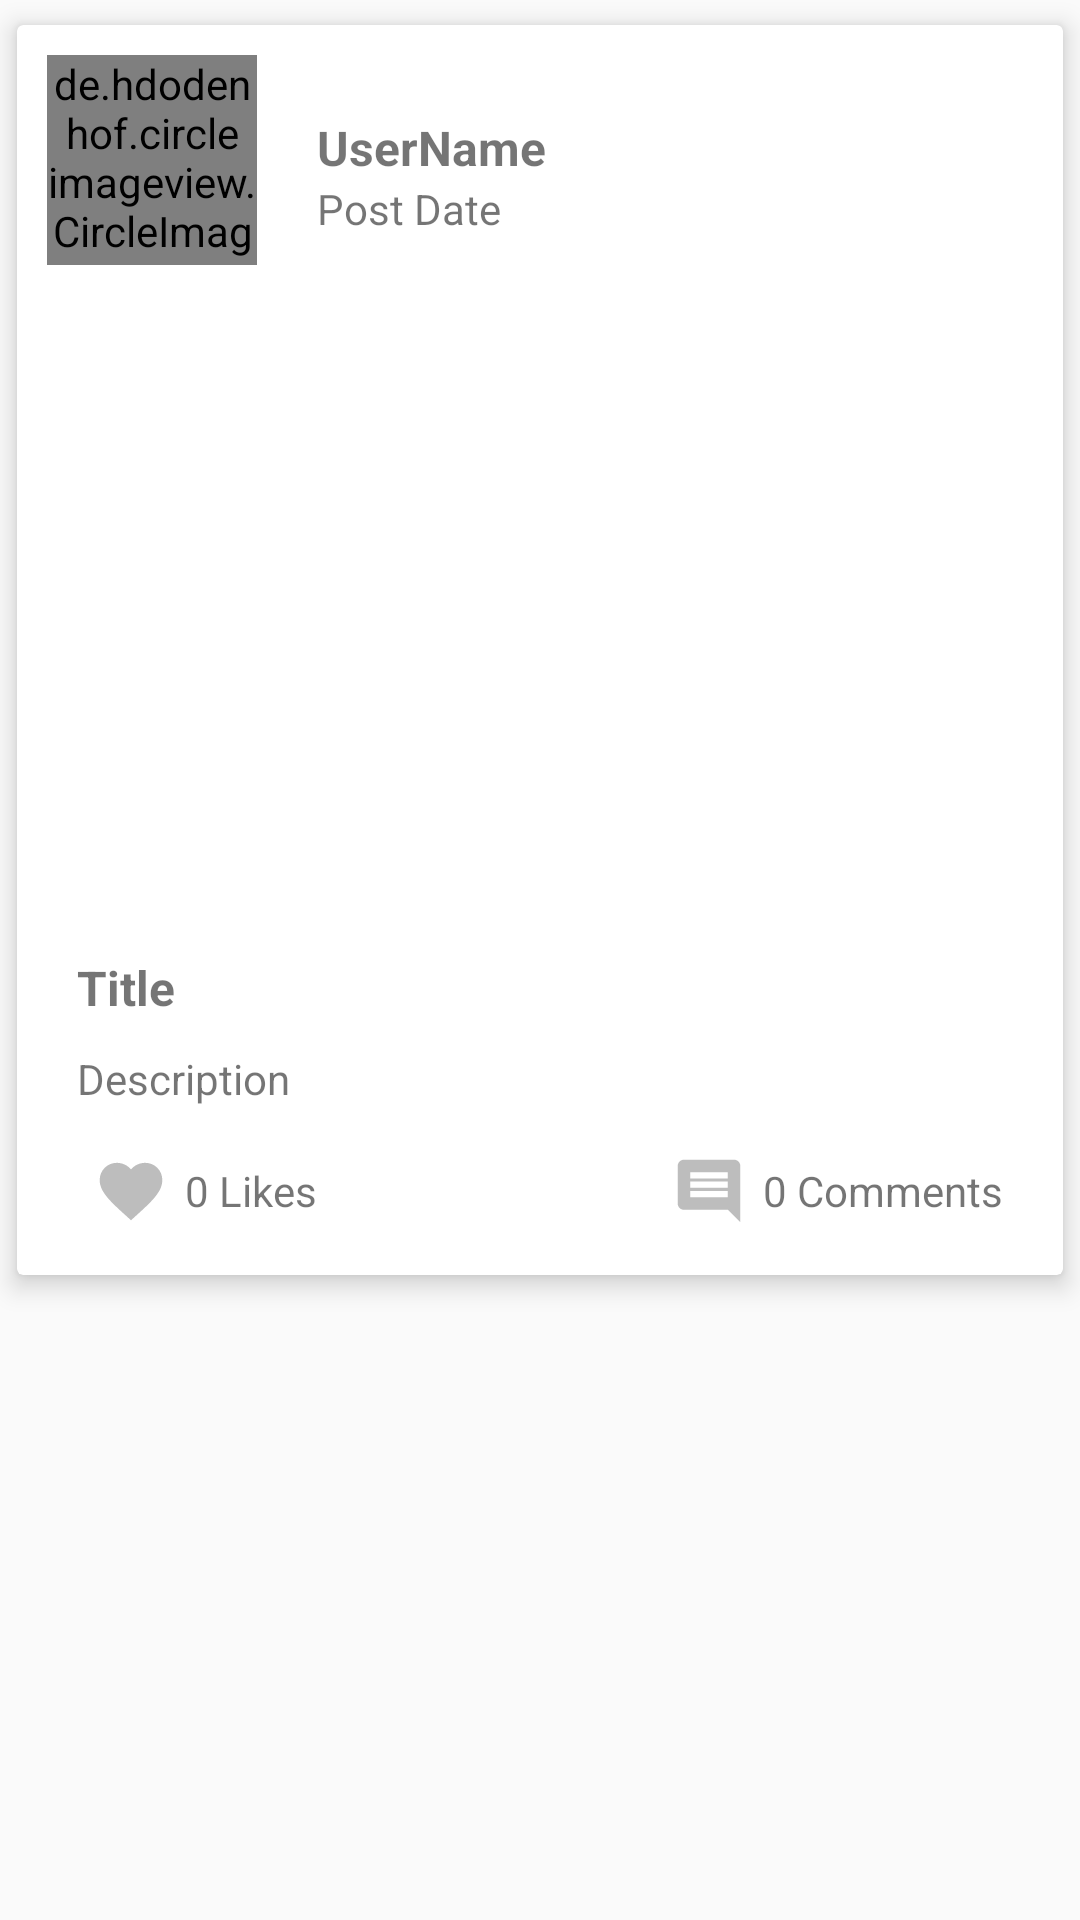

Icon bounding boxes for this 1080×1920 phone screenshot, format [x1=x1, y1=y1, x2=x2, y2=y2]:
like not: [x1=100, y1=1163, x2=162, y2=1220]
